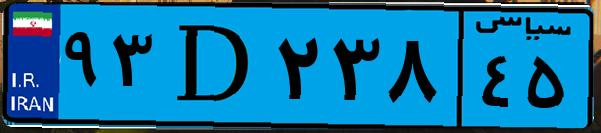2: (270, 28, 330, 110)
3: (330, 28, 385, 110), (110, 28, 158, 98)
4: (475, 38, 525, 113)
5: (525, 38, 570, 115)
8: (385, 28, 445, 110)
9: (57, 26, 110, 100)
D: (158, 12, 270, 120)
